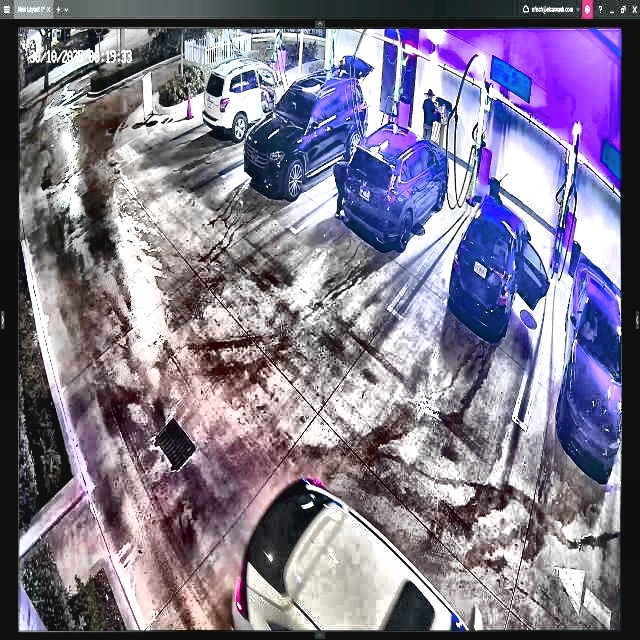Car: (245, 56, 367, 206), (447, 191, 543, 337), (339, 129, 448, 247)
